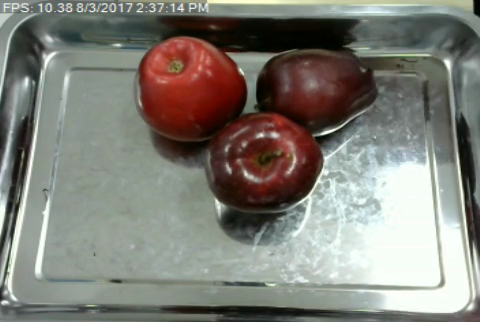Apple: (131, 32, 252, 144), (204, 107, 325, 217), (254, 42, 379, 136)
